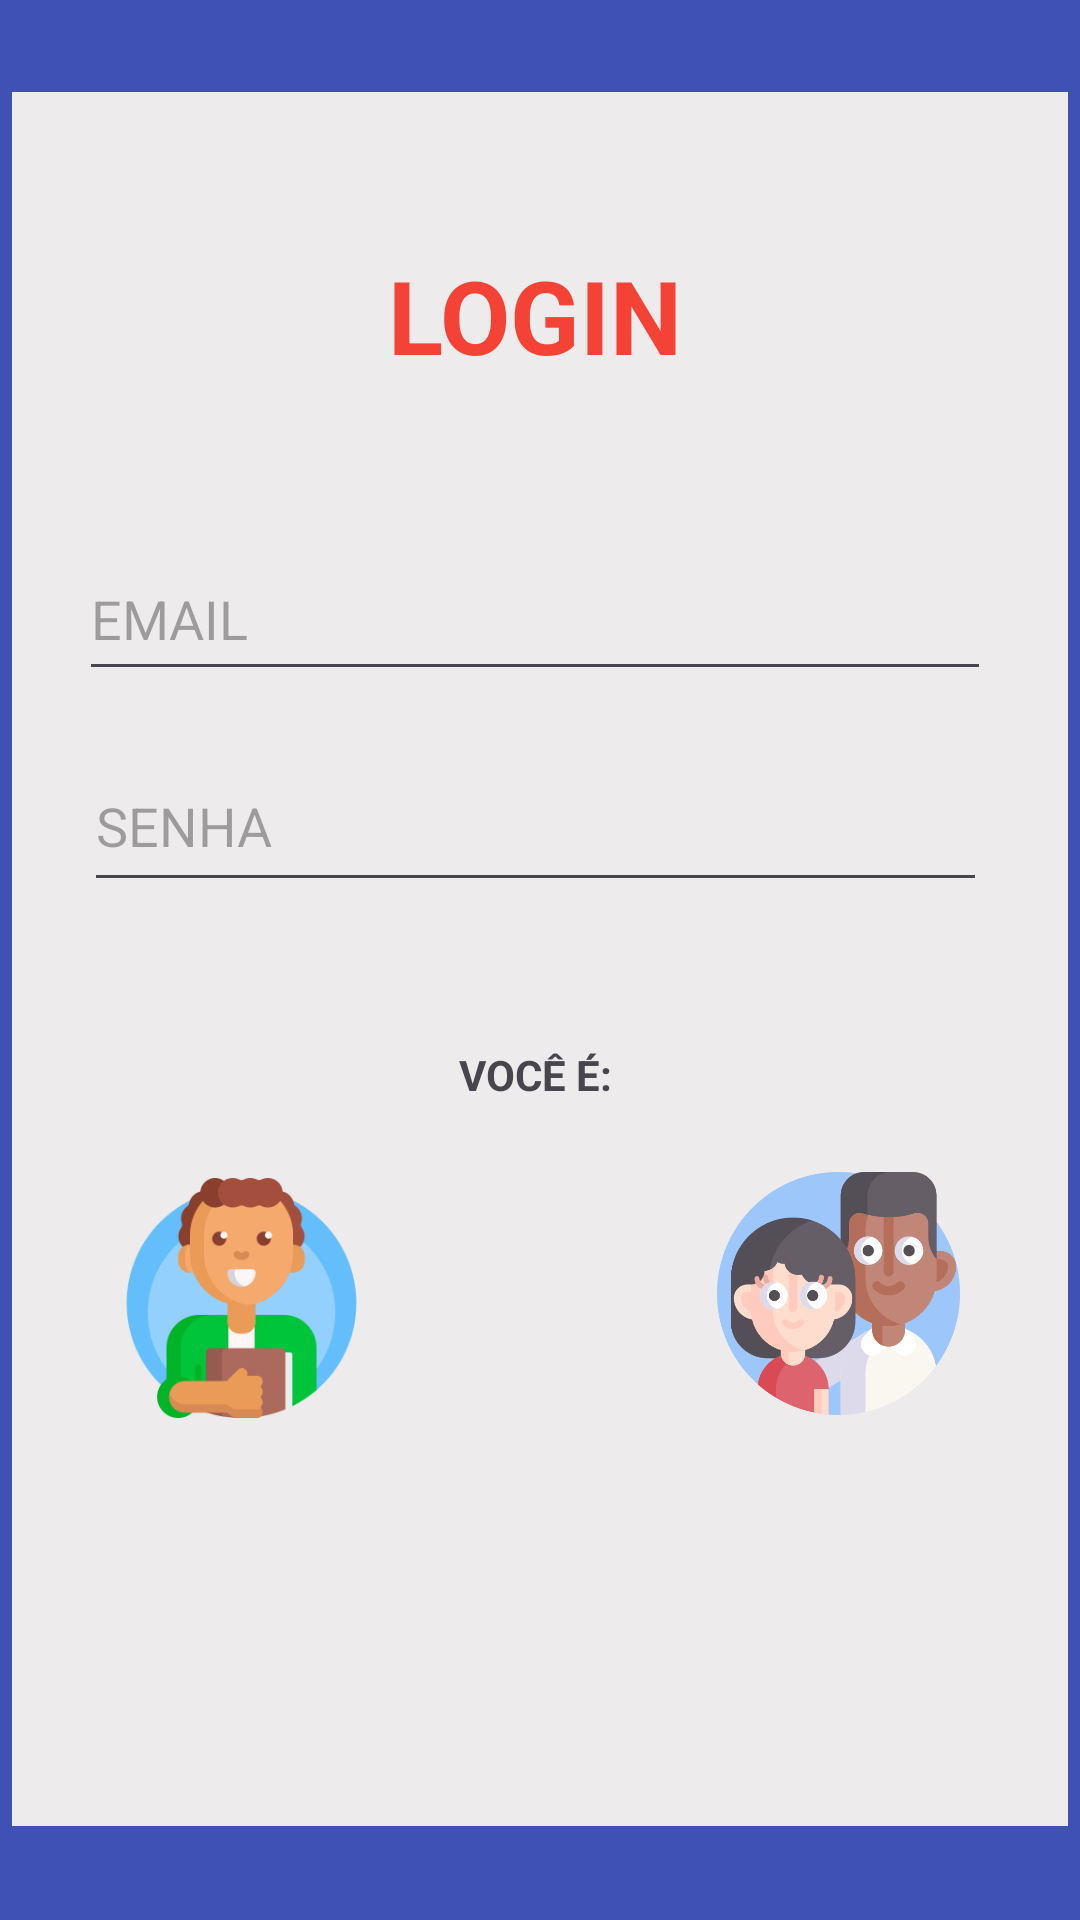

Icons on this 1080px x 1920px Android screen, each with the point to tap as (x=x, y=y):
alunoicon: (x=241, y=1298)
turmaicon: (x=838, y=1293)
